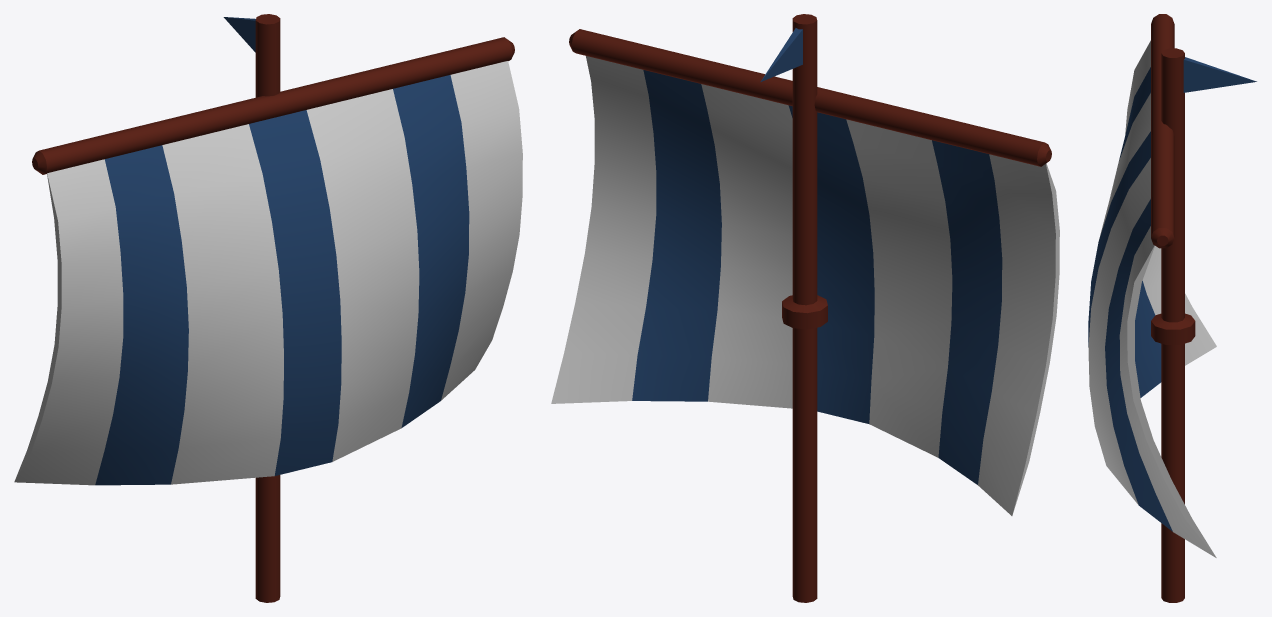
The model's file is longboatSail.obj.
3 views of the same model, side by side, from view 1: azimuth 30°, elevation 25°; view 2: azimuth 150°, elevation 25°; view 3: azimuth 270°, elevation 25° (orthographic). The views are drawn at different scales.
Visible parts, largest first — view 1: longboatSail_Cylinder.385; view 2: longboatSail_Cylinder.385; view 3: longboatSail_Cylinder.385.
Boxes of the visible parts, box(x1,y1,x2,y2) form: longboatSail_Cylinder.385: box(14, 14, 522, 602); longboatSail_Cylinder.385: box(551, 14, 1059, 602); longboatSail_Cylinder.385: box(1088, 14, 1256, 602).
Size of the model in its own units: 5.04 by 5.84 by 1.64.
